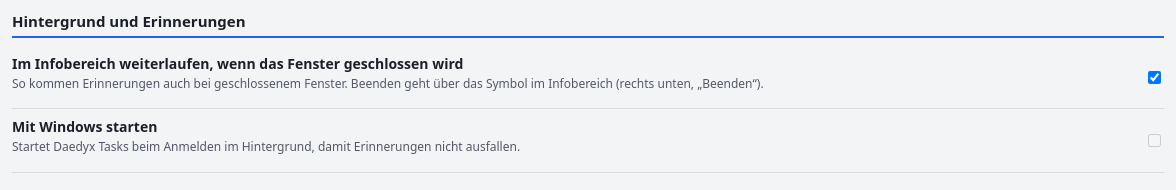
it: BackgroundSettings › „Im Infobereich weiterlaufen“ ist standardmäßig an und lässt sich abschalten
Click the checkbox labelled "Im Infobereich weiterlaufen, wenn das Fenster geschlossen wird".
click(1154, 77)  # box [1148,71,1161,84]
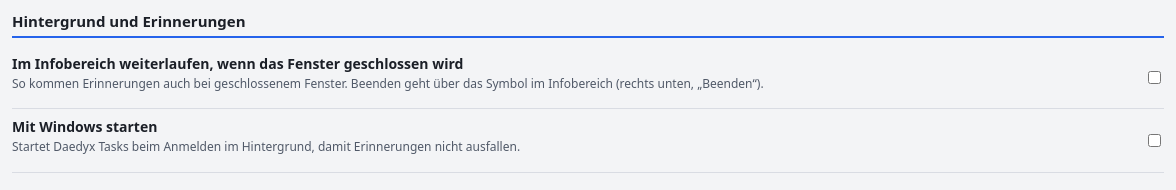
Check: the checkbox labelled "Im Infobereich weiterlaufen, wenn das Fenster geschlossen wird" is not checked, box [1148,71,1161,84]
